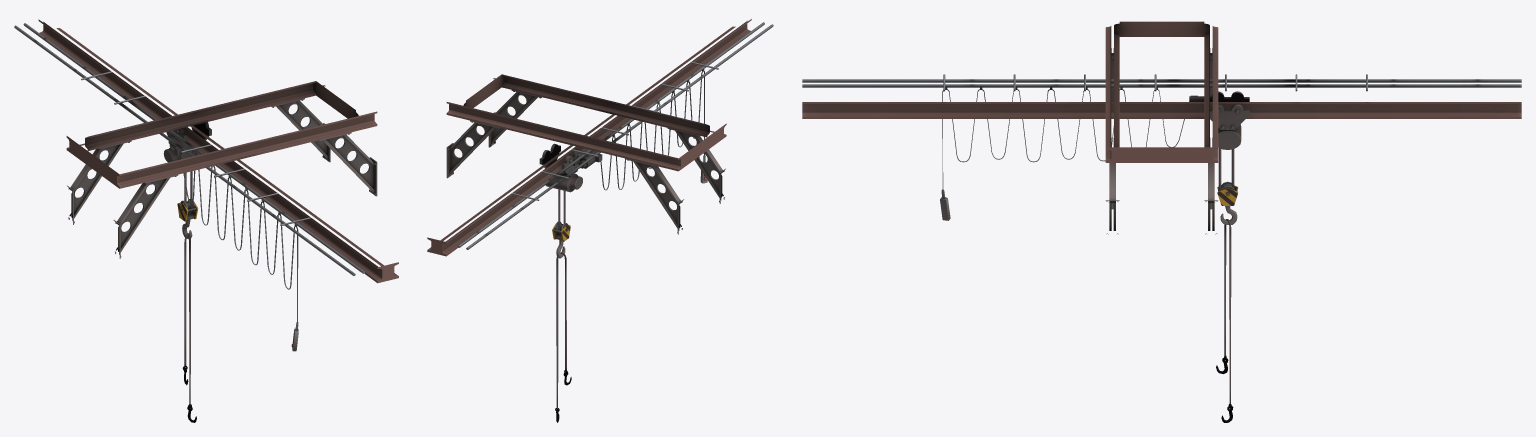
The picture shows the model from 3 angles, left to right: view 1: azimuth 30°, elevation 25°; view 2: azimuth 150°, elevation 25°; view 3: azimuth 270°, elevation 25°; orthographic projection. The views are drawn at different scales.
Parts seen in each view (by area): view 1: body0_model0_lod0_mesh0; view 2: body0_model0_lod0_mesh0; view 3: body0_model0_lod0_mesh0.
Boxes of the visible parts, x1,y1,x2,y2 form: body0_model0_lod0_mesh0: (14,19,398,422); body0_model0_lod0_mesh0: (427,19,773,422); body0_model0_lod0_mesh0: (802,21,1521,422).
Size of the model in its own units: 448 by 535 by 1021.
1 material, 1 textured.
